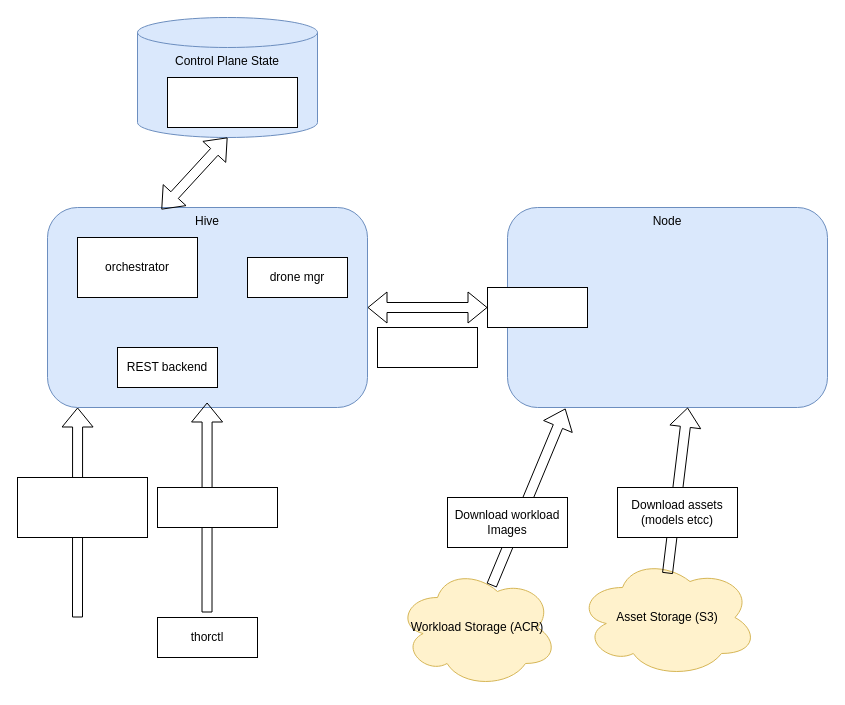
Some shapes in this 845 by 705 pixel diagram are drawn without their labels. Each missing label, with the centre of its shape:
devops REST endpoint: (217,507)
drone: (537,307)
gRPC stream: (427,347)
nodes, capabilities, workloads, assets,jobs: (232,102)
tenant-facing REST endpoint (jobs, authn, etc): (82,507)
